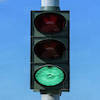green: (56, 43, 76, 65)
